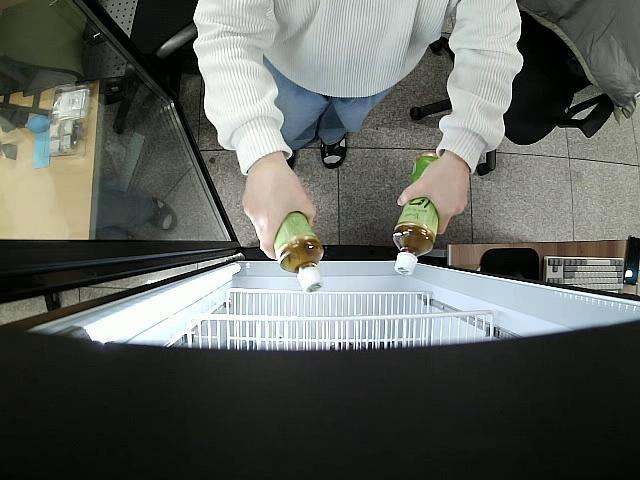19_17cha: (391, 153, 440, 276), (274, 211, 324, 294)
